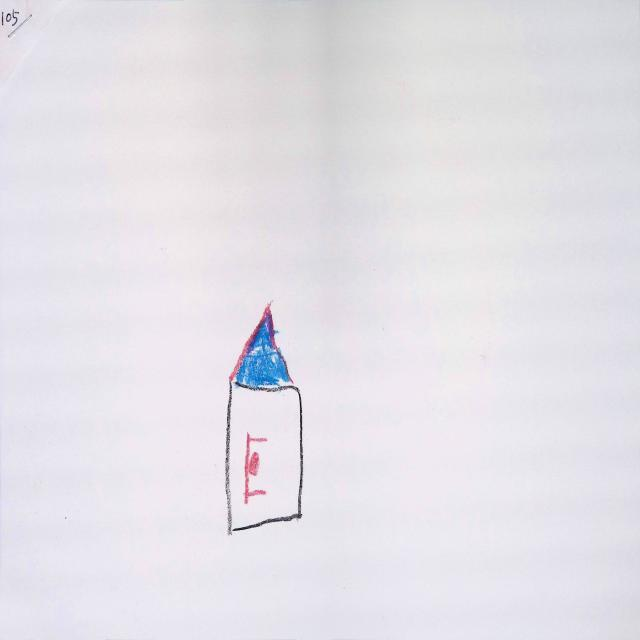door: (242, 433, 271, 503)
house: (227, 305, 302, 534)
roof: (231, 306, 296, 392)
wall: (226, 383, 305, 535)
